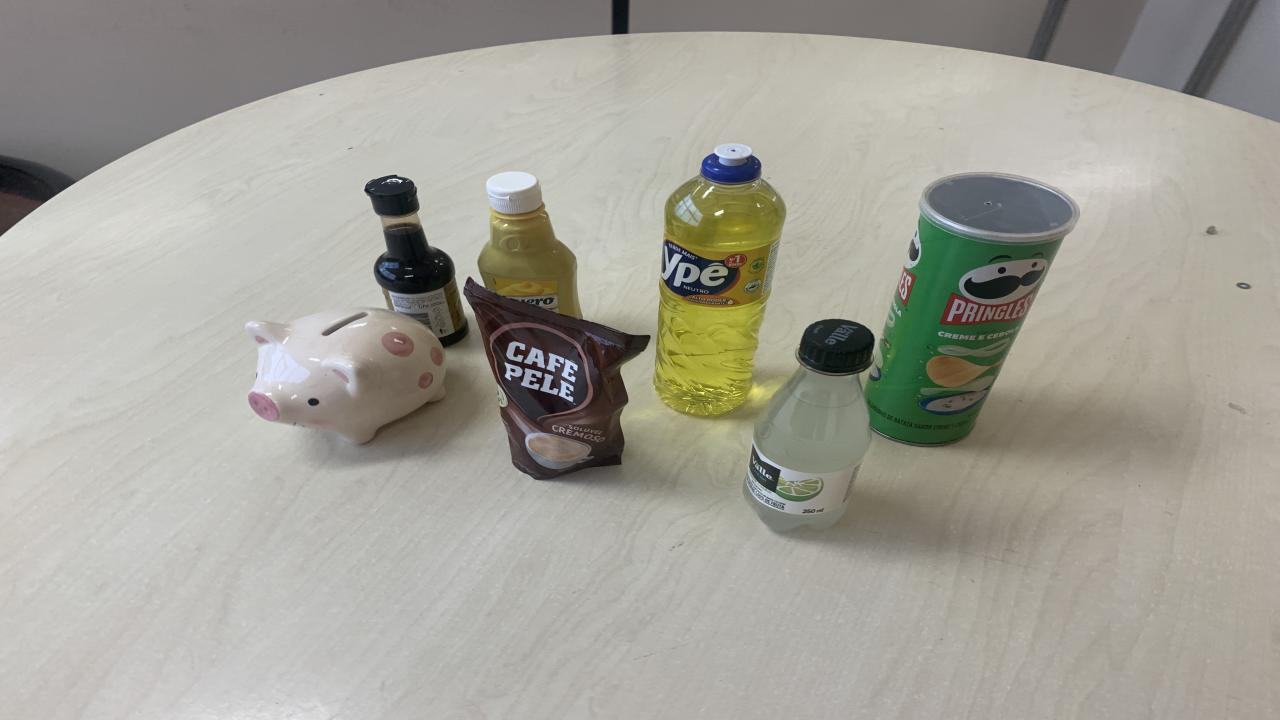Coffee-Pantry_Items: (462, 279, 650, 478)
Detergent-Cleanup_Items: (652, 144, 785, 414)
English_Sauce-Pantry_Items: (365, 174, 468, 345)
Mustard-Pantry_Items: (478, 172, 582, 317)
Pig_Safe-Miscellaneous: (245, 308, 445, 444)
Pringles-Snacks: (862, 174, 1078, 444)
Soda-Drinks: (742, 319, 875, 531)
